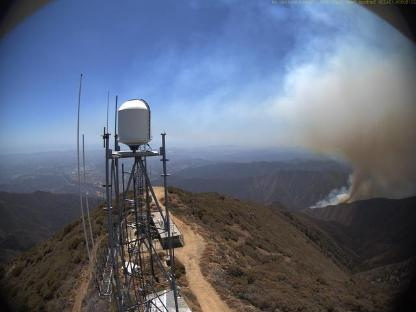smoke: (286, 35, 414, 210)
